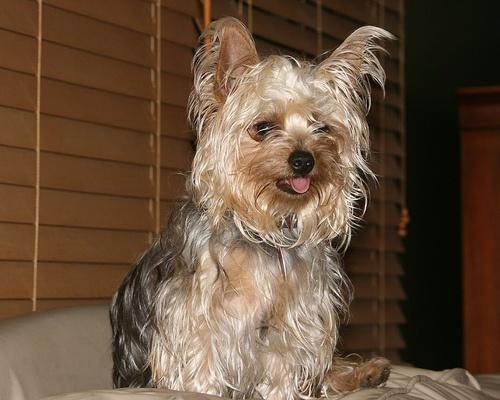dog: (111, 12, 396, 400)
